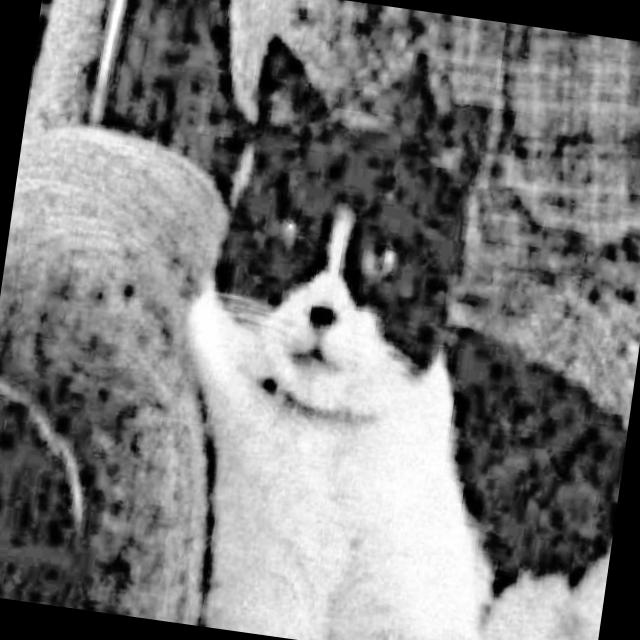Cat: (145, 8, 568, 640)
